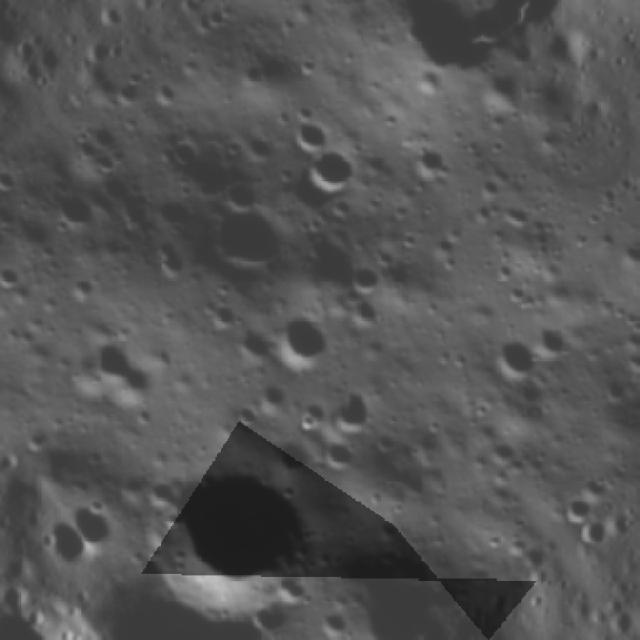crater: (124, 415, 359, 640), (189, 179, 308, 292), (262, 288, 352, 382), (323, 377, 399, 451), (48, 172, 125, 242), (301, 136, 362, 201), (63, 494, 122, 557), (483, 332, 542, 392), (282, 101, 342, 157), (158, 126, 207, 174), (318, 434, 360, 477), (0, 256, 23, 293), (221, 0, 257, 9)
